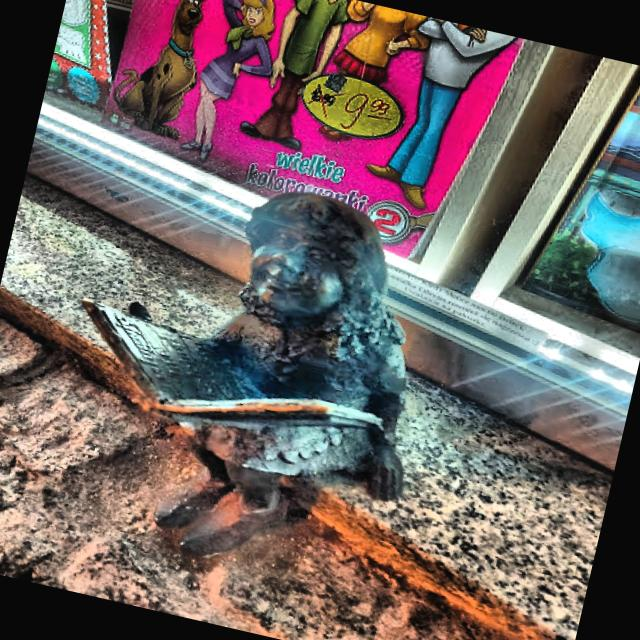Ksiegarka: (20, 140, 476, 611)
